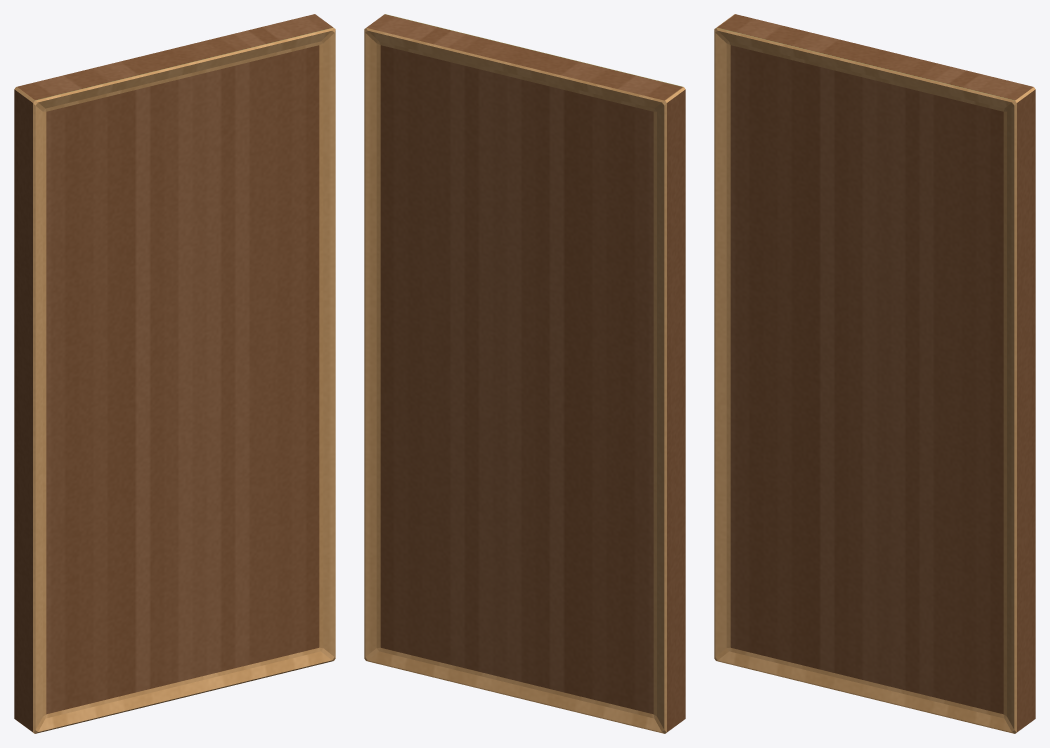
Rendered from sm_farm_wall.glb.
The picture shows the model from 3 angles, left to right: view 1: azimuth 30°, elevation 25°; view 2: azimuth 150°, elevation 25°; view 3: azimuth 330°, elevation 25°; orthographic projection.
Visible parts, largest first — view 1: sm_farm_wall; view 2: sm_farm_wall; view 3: sm_farm_wall.
Part boxes in pixels (box(x1,y1,x2,y2)): sm_farm_wall: box(14, 14, 335, 733); sm_farm_wall: box(364, 14, 685, 733); sm_farm_wall: box(714, 14, 1035, 733).
Size of the model in its own units: 1 by 2 by 0.116.
1 material, 1 textured.
